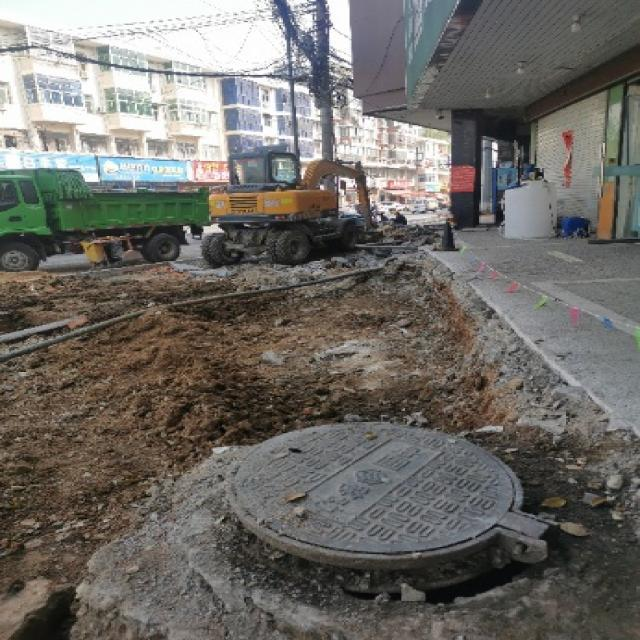Good: (219, 423, 541, 581)
